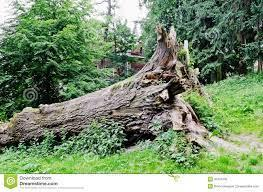Downstairs: (1, 24, 205, 151)
